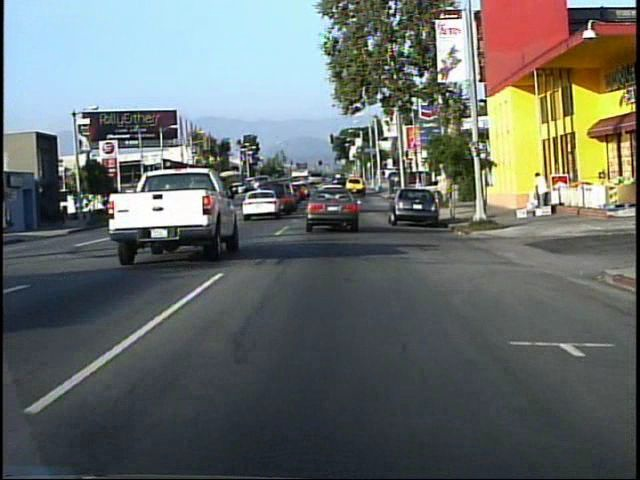person: (528, 167, 550, 209)
